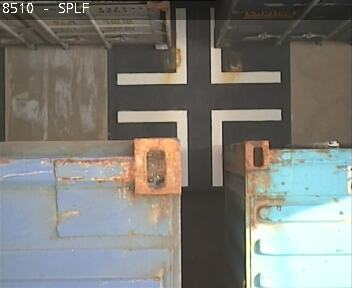groundmarker_1: (117, 110, 281, 185), (116, 10, 280, 85)
